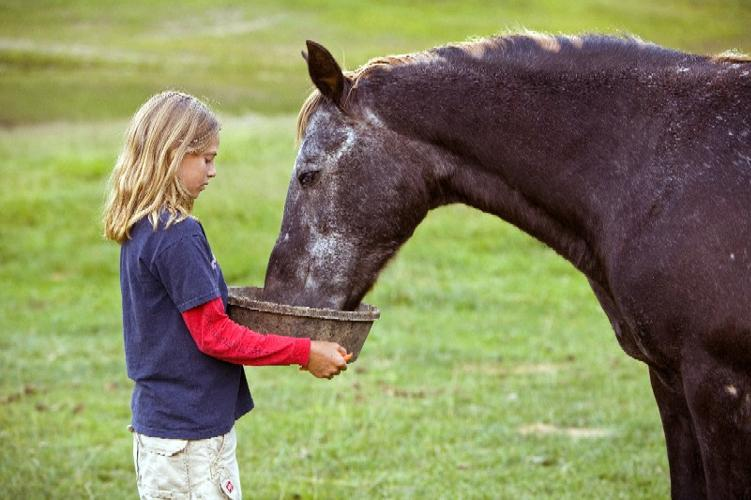person: (103, 89, 356, 500)
